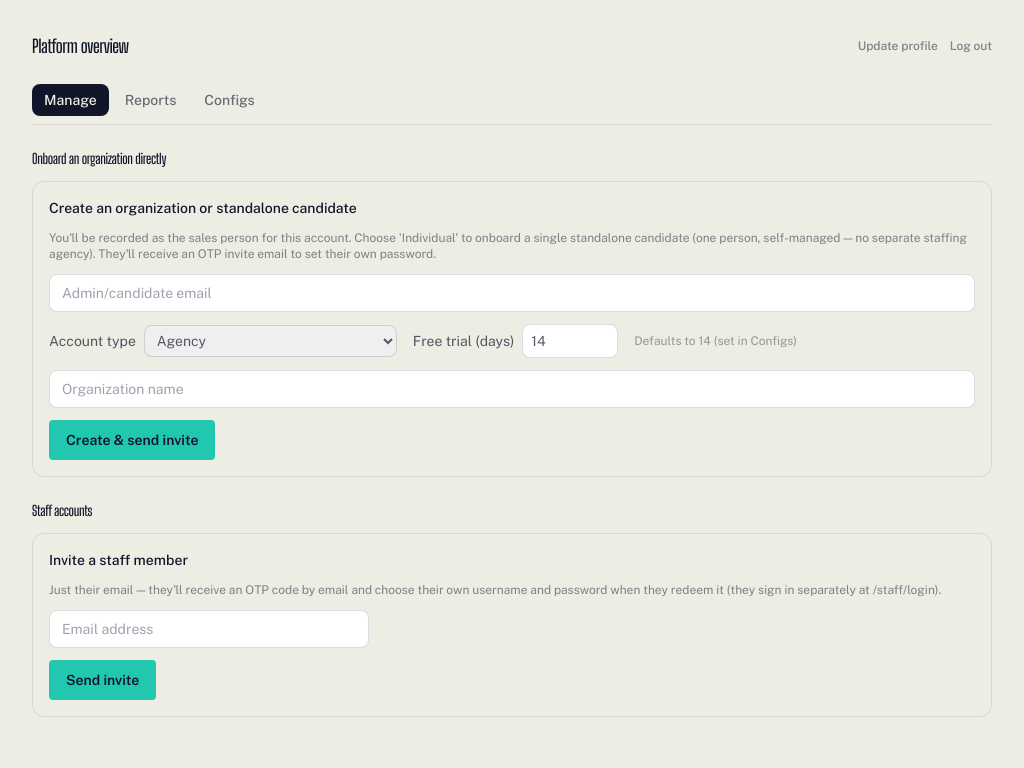
Test case: SuperuserDashboard › filters the organizations table by a column search
The width and height of the screenshot is (1024, 768).
Click the button "Reports" at (151, 100), box left=113, top=84, right=188, bottom=116
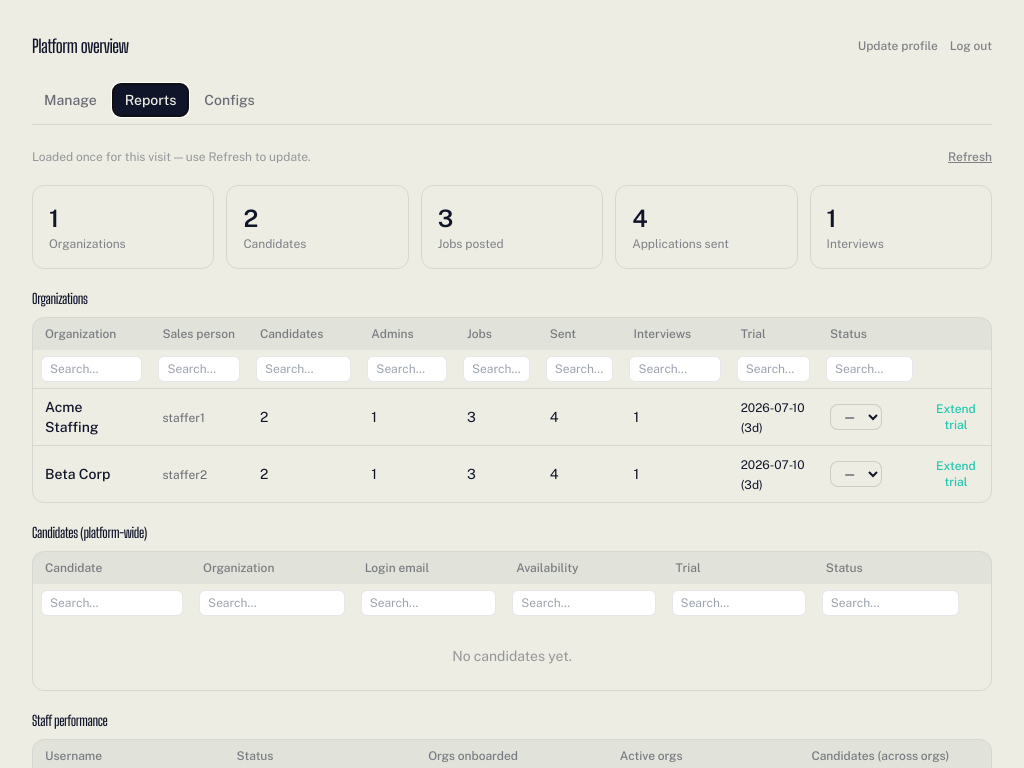
Result: the text "Beta Corp" is shown at left=45, top=466, right=110, bottom=482
Type "Acme" into the field named "Filter Organization" at (92, 369), box left=41, top=356, right=142, bottom=382
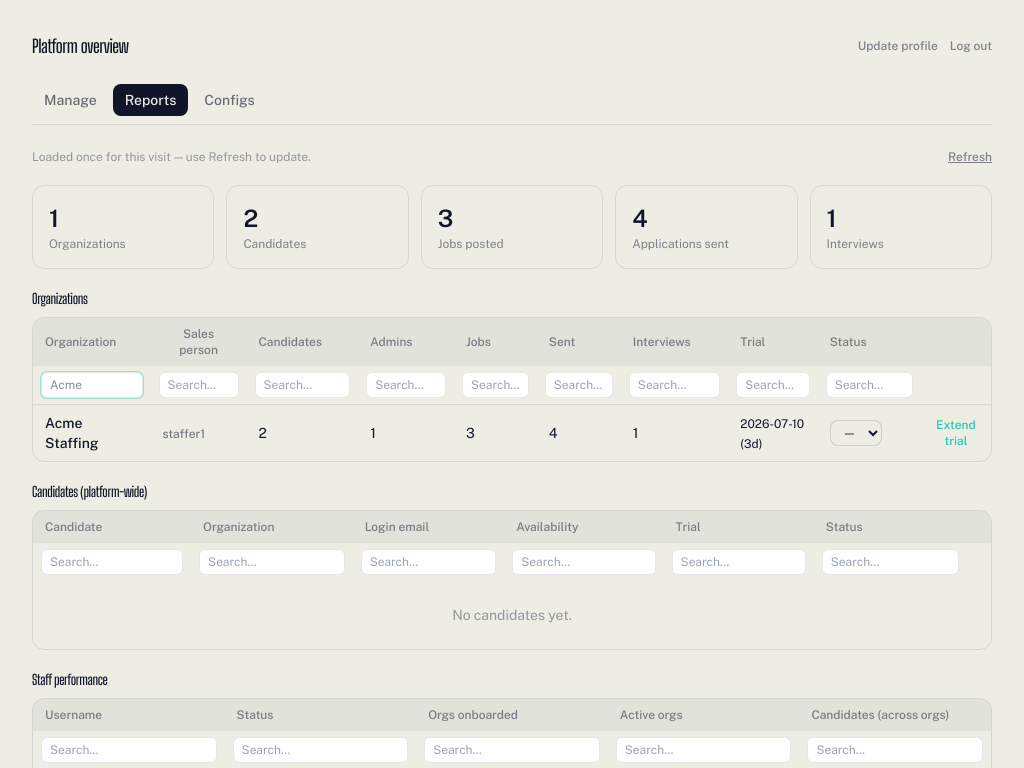
Result: the text "Acme Staffing" is shown at left=45, top=415, right=98, bottom=451
Result: the text "Beta Corp" is gone
